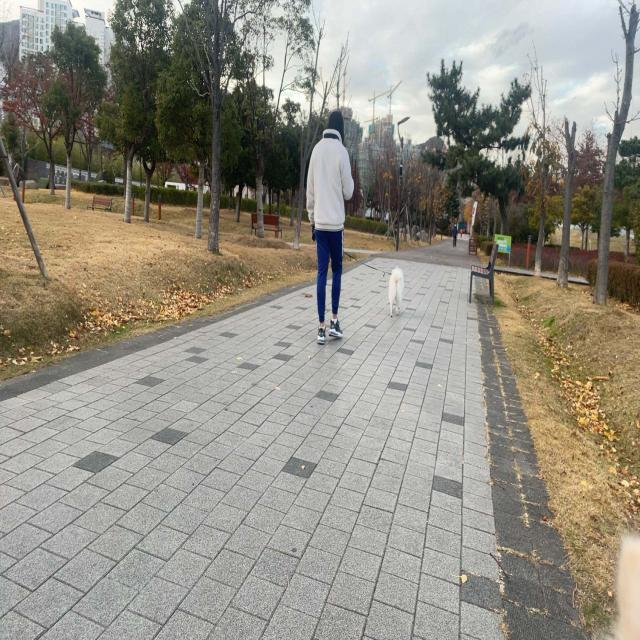Leashed_Dog: (331, 227, 404, 319)
